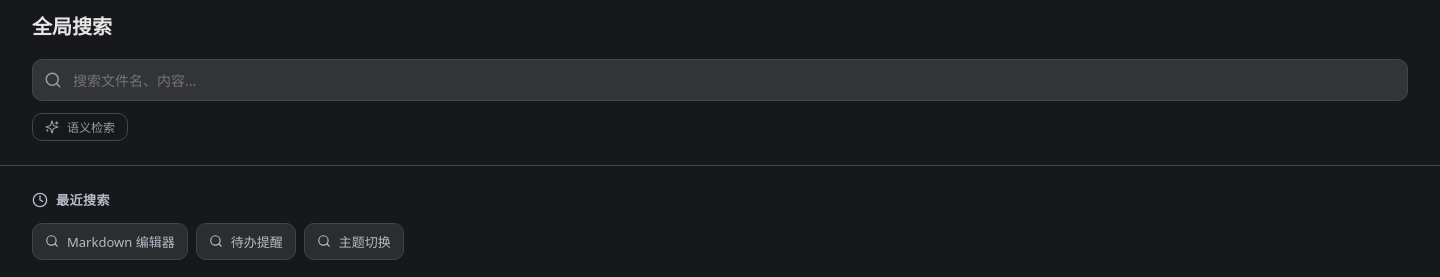
Scenario: SearchView › 无法恢复工作区时显示错误而不是静默返回
Type "knowledge" into the field with test id "search-input".
click(720, 80); type("knowledge")  # box left=32, top=59, right=1408, bottom=101
Wait 300 ms
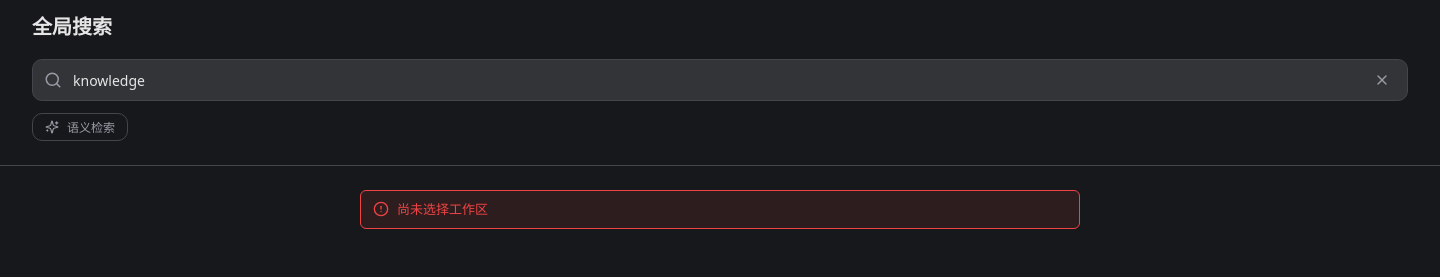
Now the element with test id "search-error" reads "尚未选择工作区", box left=397, top=200, right=488, bottom=218
